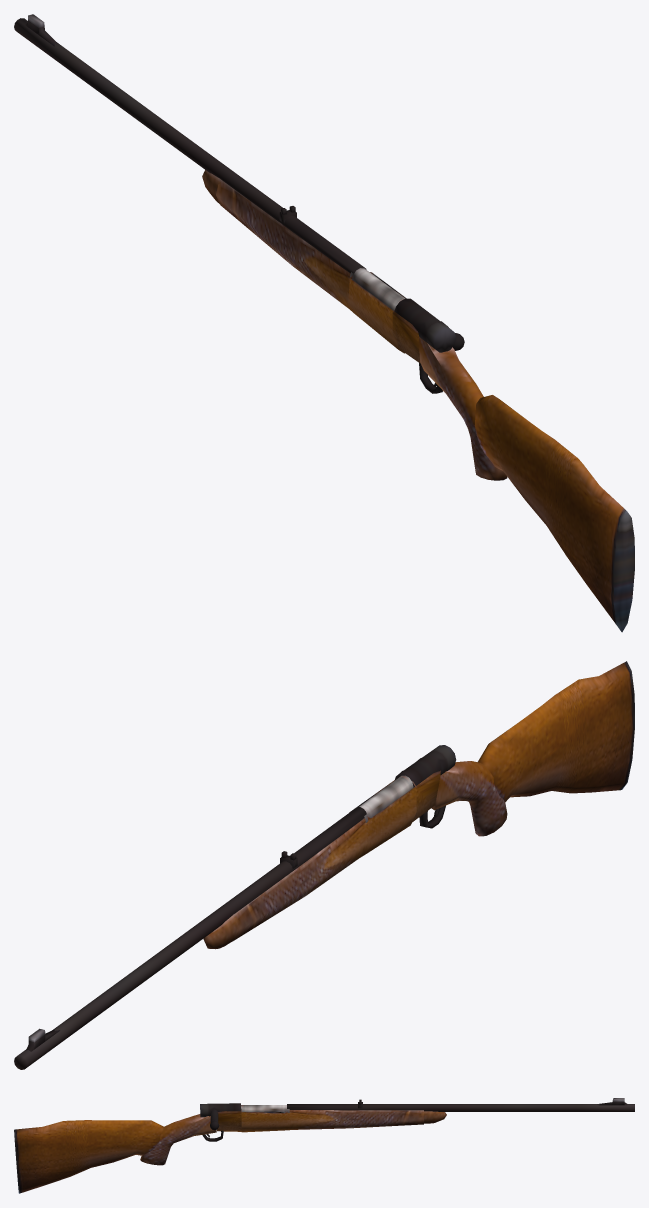
Rendered from cz550_world.fbx.
The picture shows the model from 3 angles, top to bottom: view 1: azimuth 30°, elevation 25°; view 2: azimuth 150°, elevation 25°; view 3: azimuth 270°, elevation 25°; orthographic projection. The views are drawn at different scales.
Parts seen in each view (by area): view 1: CZ550_stock, CZ550_grip, CZ550_barrel, CZ550_bolt, CZ550_breech; view 2: CZ550_stock, CZ550_grip, CZ550_barrel, CZ550_bolt, CZ550_breech; view 3: CZ550_stock, CZ550_grip, CZ550_barrel, CZ550_bolt, CZ550_breech.
Part boxes in pixels (<box>): CZ550_stock: <box>418,337,634,632</box>; CZ550_grip: <box>202,170,420,363</box>; CZ550_barrel: <box>14,18,366,273</box>; CZ550_bolt: <box>394,298,464,352</box>; CZ550_breech: <box>349,268,405,310</box>; CZ550_stock: <box>431,661,634,836</box>; CZ550_grip: <box>203,770,440,949</box>; CZ550_barrel: <box>14,807,366,1069</box>; CZ550_bolt: <box>394,745,456,787</box>; CZ550_breech: <box>359,775,413,822</box>; CZ550_stock: <box>14,1114,216,1193</box>; CZ550_grip: <box>217,1108,446,1132</box>; CZ550_barrel: <box>287,1104,634,1111</box>; CZ550_bolt: <box>200,1103,240,1130</box>; CZ550_breech: <box>241,1105,289,1112</box>.
Bounding box in the file's own units: 4.51 × 18.05 × 107.
Materials: 1 (1 with a texture image).
